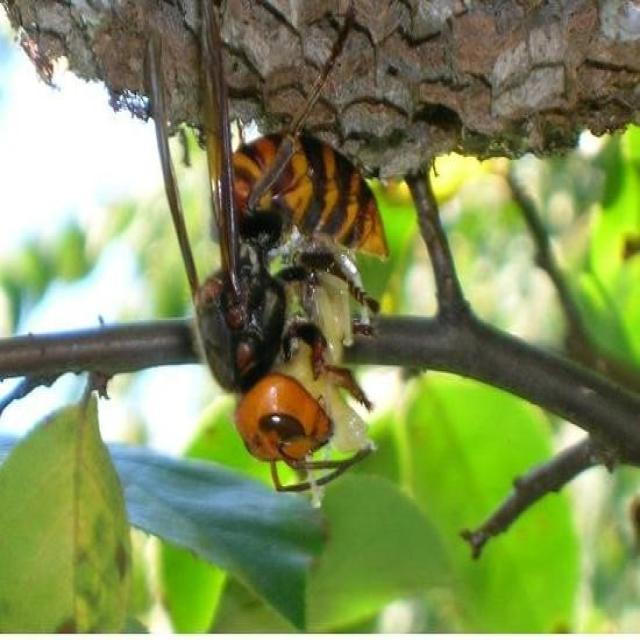Wasp: (144, 9, 394, 511)
